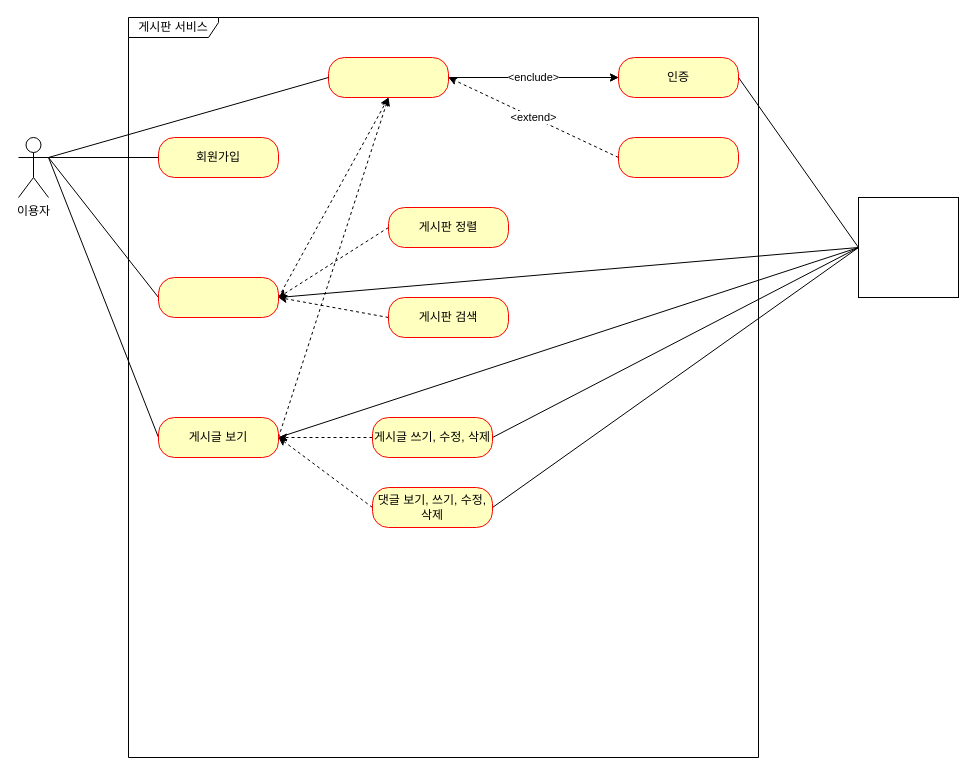
Some shapes in this 976 by 775 pixel diagram are drawn without their labels. Here are the shapes that lost their labels. From the top down, the centre of each, then its label:
the point at 388,77: 회원 로그인
the point at 678,157: 로그인 실패
the point at 908,247: DB
the point at 218,297: 게시판 보기
